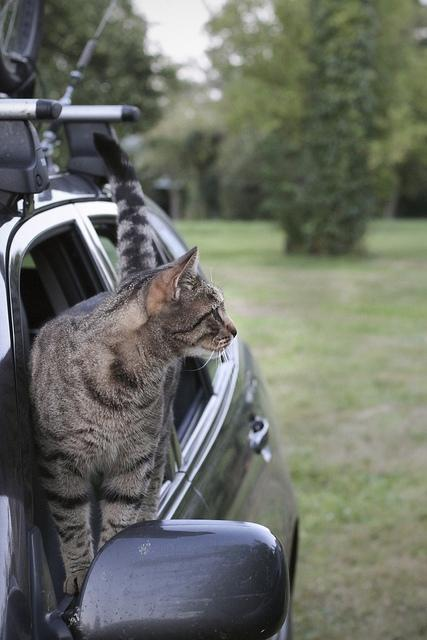car: (0, 189, 306, 632)
